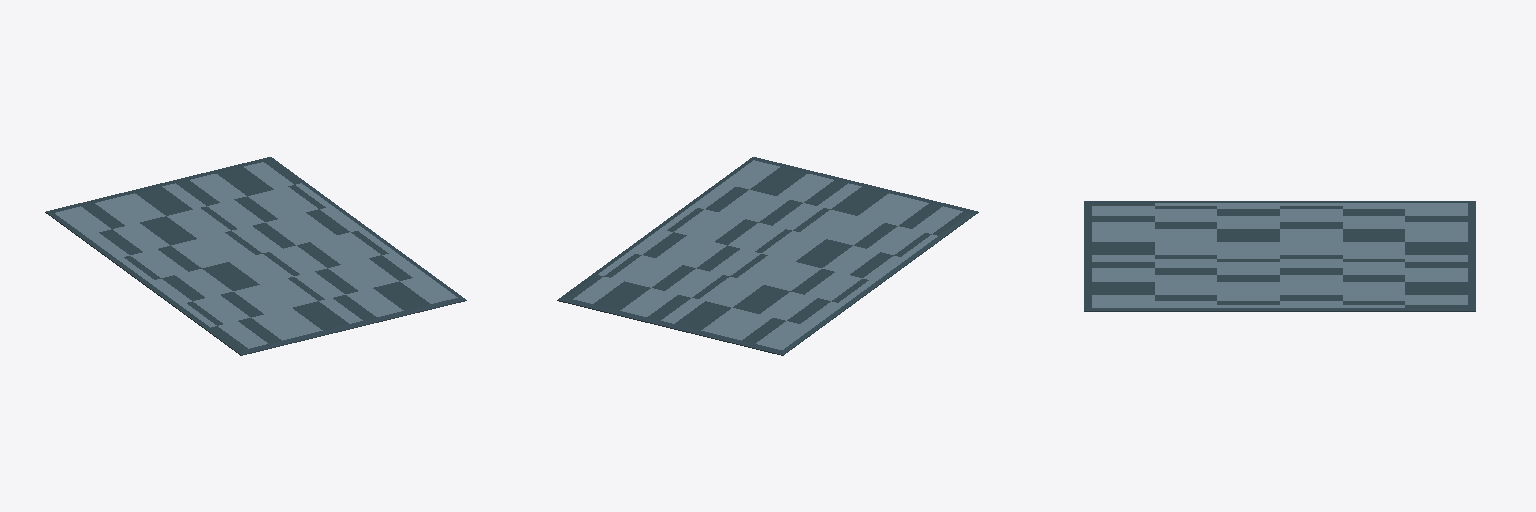
The model's file is Modern_Rug_01.obj.
3 renders of one model, left to right at view 1: azimuth 30°, elevation 25°; view 2: azimuth 150°, elevation 25°; view 3: azimuth 270°, elevation 25°, orthographic.
Visible parts, largest first — view 1: Modern_rug_Plane.004; view 2: Modern_rug_Plane.004; view 3: Modern_rug_Plane.004.
Boxes of the visible parts, x1,y1,x2,y2 form: Modern_rug_Plane.004: [45, 157, 466, 355]; Modern_rug_Plane.004: [557, 157, 978, 355]; Modern_rug_Plane.004: [1084, 201, 1475, 311].
Bounding box in the file's own units: 6.63 × 0.0392 × 9.97.